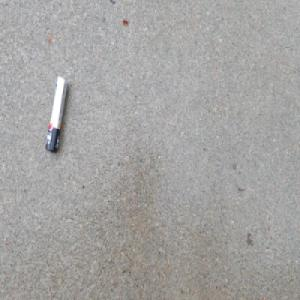Battery: (45, 72, 70, 153)
